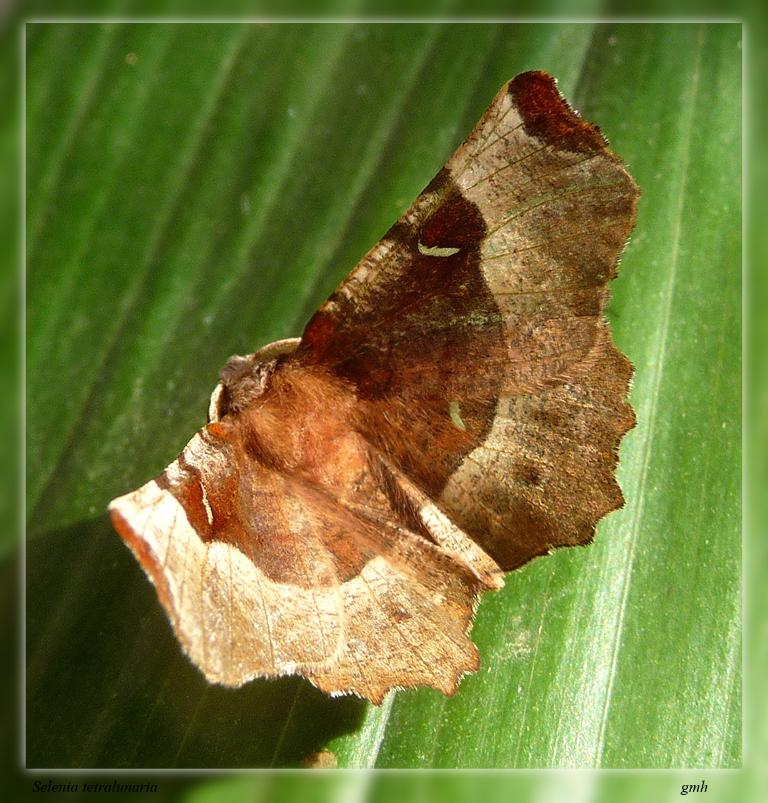Butterfly: (88, 65, 659, 727)
